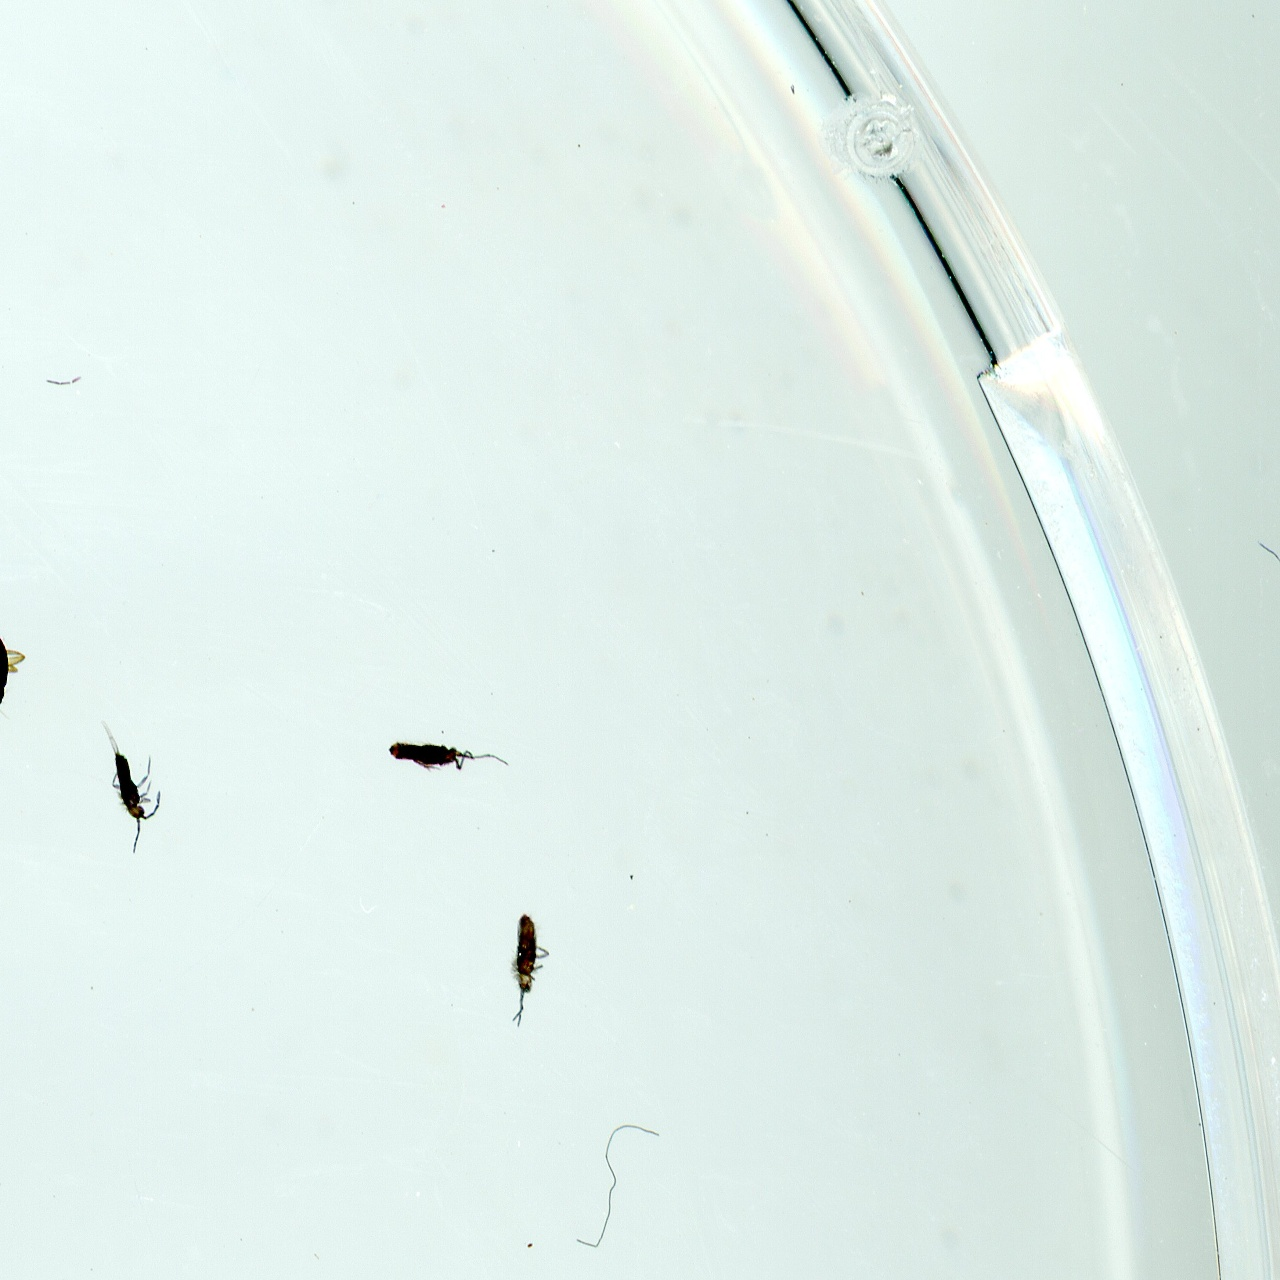arthropod: (91, 715, 169, 860), (371, 730, 516, 778), (505, 910, 552, 1028), (0, 623, 31, 724)
